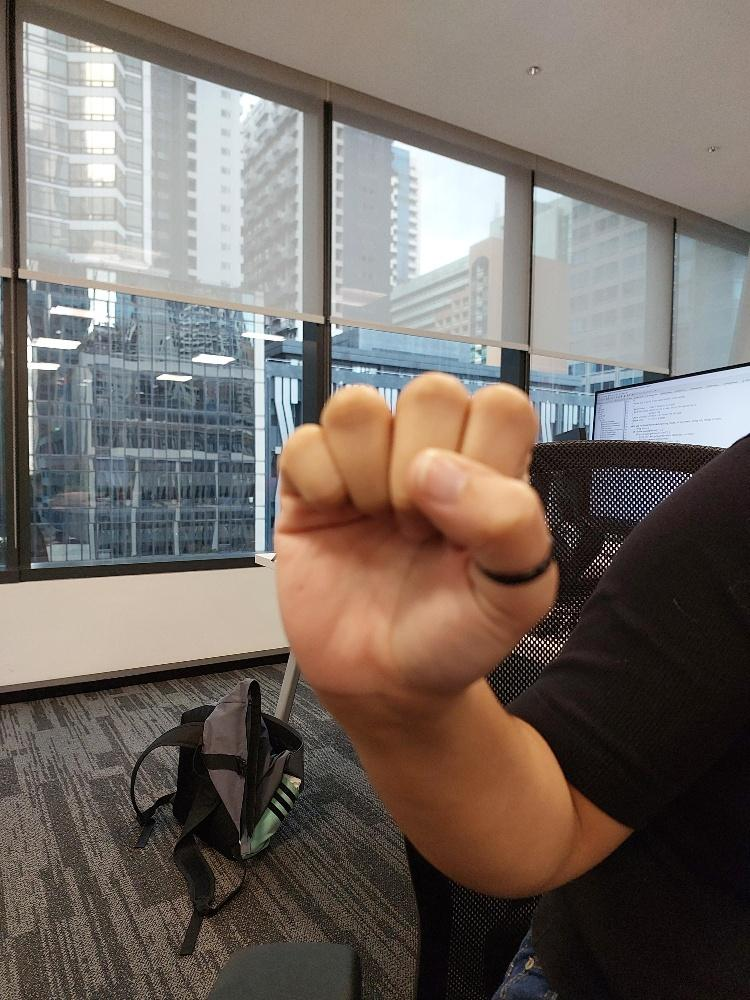s: (269, 368, 561, 718)
